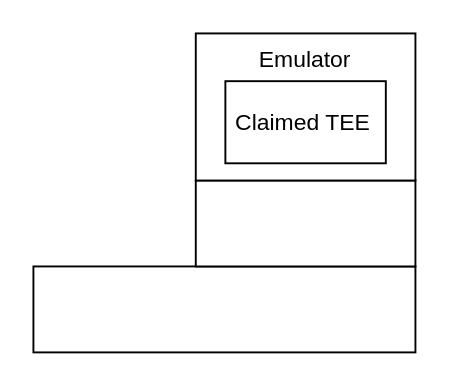
Image size: 449x386. Some labels were removed from this diagram. The box of each missing label's shape, as (x1, y1, x2, y2) in pixels:
CPU: (32, 265, 415, 352)
OS Kernel: (194, 179, 415, 266)
